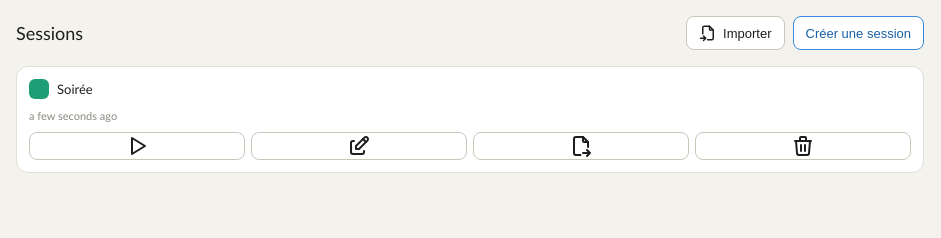
WorkflowDashboard › export / import › shows the import success message
Click the button "Importer": (735, 33) [686,16,784,50]
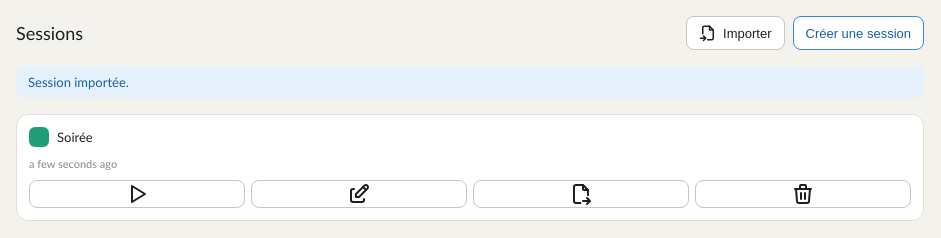
Result: the text "Session importée." is shown at [16,66,924,98]
